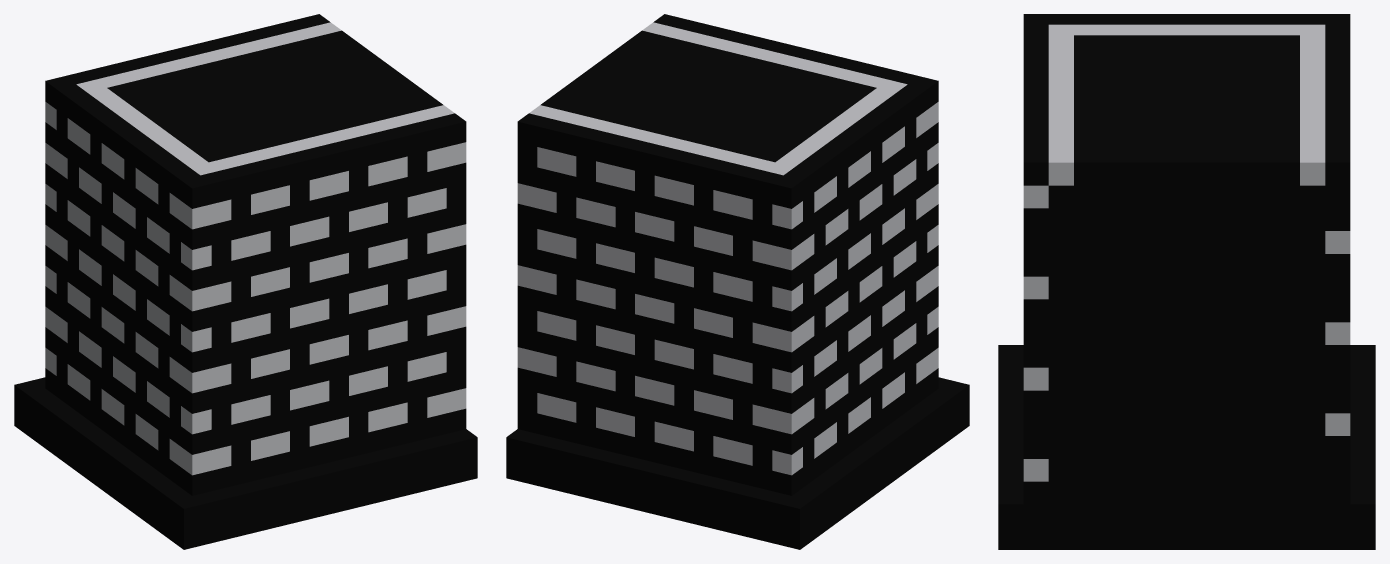
The model's file is dungeon_d_a_inner_wall_ending.obj.
3 renders of one model, left to right at view 1: azimuth 30°, elevation 25°; view 2: azimuth 150°, elevation 25°; view 3: azimuth 270°, elevation 25°, orthographic. The views are drawn at different scales.
Size of the model in its own units: 1.5 by 1.7 by 1.5.
1 material, 1 textured.
